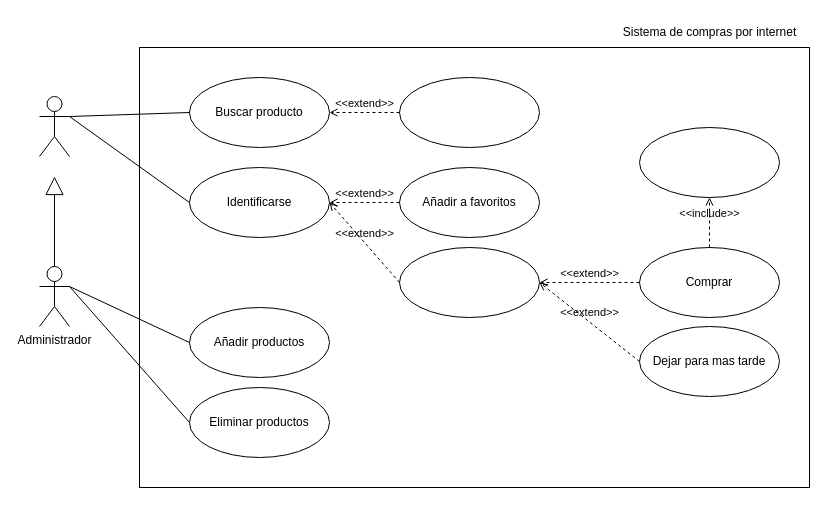
Image size: 827x505. Some labels were removed from this diagram. The shapes that lost their labels are listed below. From the top down, each one's centre as x and y in pixels, then its label:
(x=54, y=126): Usuario
(x=469, y=112): Mirar opiniones
(x=709, y=162): Genera albarán
(x=469, y=282): Añadir a carro de compra
